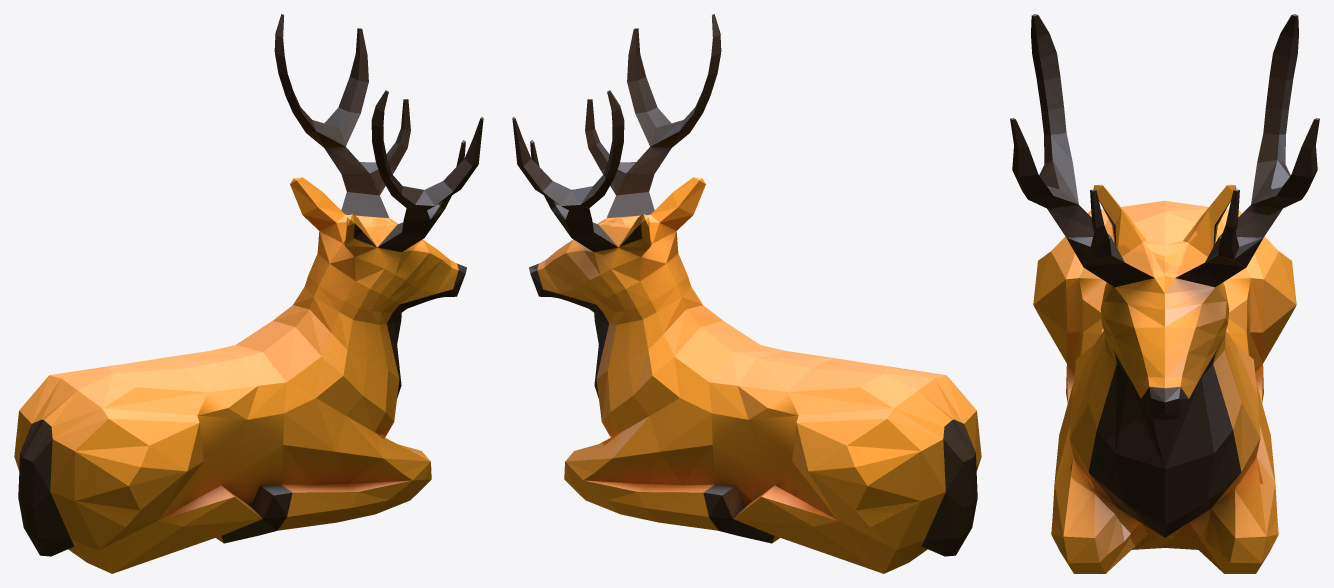
File: low_poly_lazy_deer.glb
The picture shows the model from 3 angles, left to right: view 1: azimuth 30°, elevation 25°; view 2: azimuth 150°, elevation 25°; view 3: azimuth 270°, elevation 25°; orthographic projection. The views are drawn at different scales.
Parts seen in each view (by area): view 1: Line022; view 2: Line022; view 3: Line022.
Part boxes in pixels (x1,y1,x2,y2): Line022: (14, 14, 483, 573); Line022: (512, 14, 981, 573); Line022: (1010, 14, 1319, 573).
Size of the model in its own units: 135 by 126 by 65.52.
Materials: 1 (1 with a texture image).
